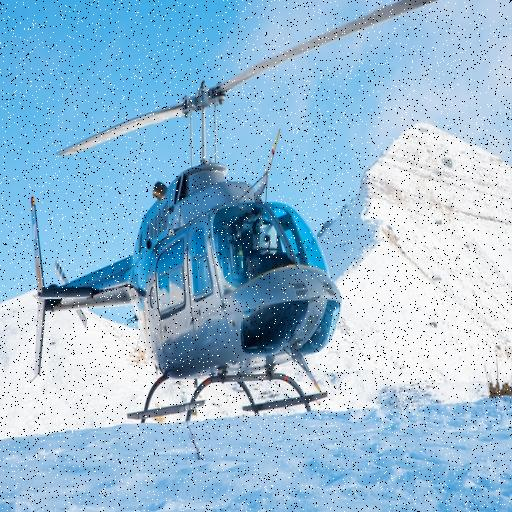helicopter: (25, 1, 478, 431)
